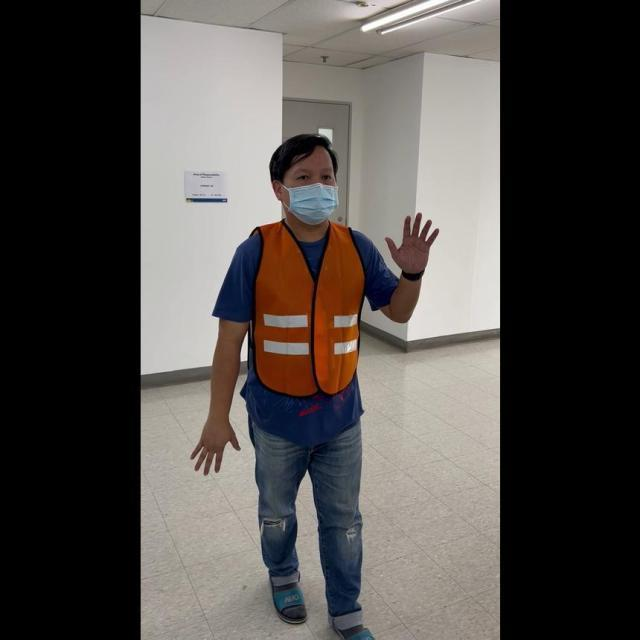bare_hand: (383, 206, 438, 275), (189, 415, 239, 475)
